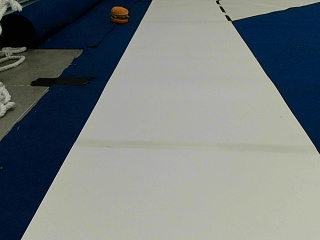burger: (110, 5, 129, 23)
